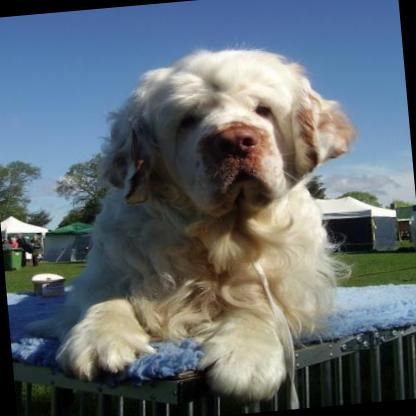clumber: (0, 32, 377, 416)
